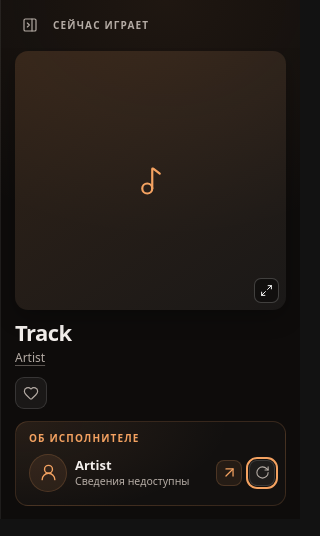
it: NowPlayingRail › retries unavailable metadata and keeps keyboard focus on the artist route
Click the button with class "npr-artist-retry" at (262, 472), box [249,460,275,486]
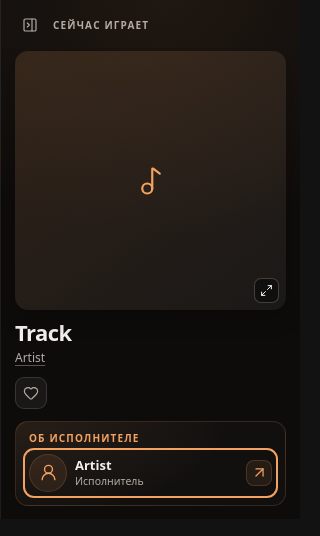
Now the button with class "npr-artist-retry" is gone
